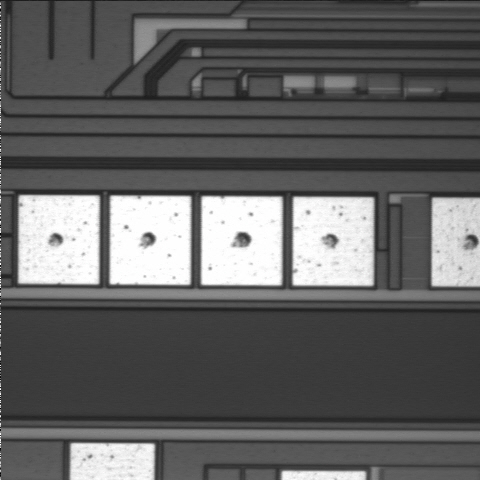pad: (18, 195, 100, 284), (110, 196, 191, 285), (201, 196, 282, 285), (293, 197, 374, 286)
